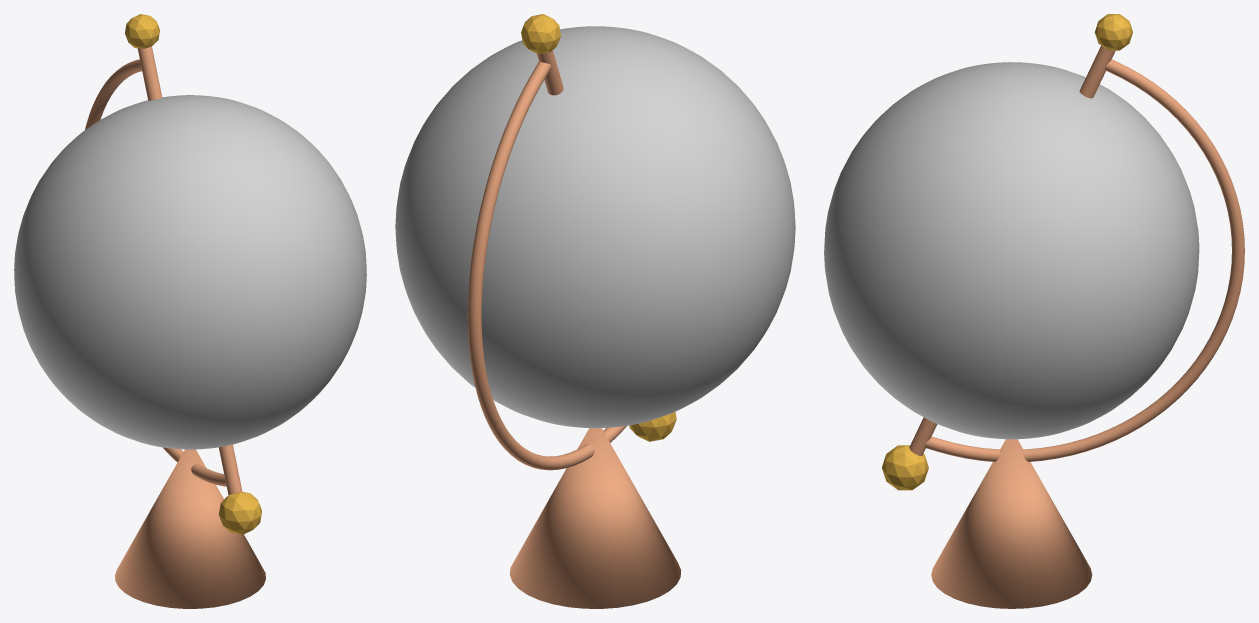
Rendered from earth.gltf.
3 renders of one model, left to right at view 1: azimuth 30°, elevation 25°; view 2: azimuth 150°, elevation 25°; view 3: azimuth 270°, elevation 25°, orthographic. The views are drawn at different scales.
Visible parts, largest first — view 1: 球, 円錐, トーラス, 円柱, ICO球, ICO球.001; view 2: 球, 円錐, トーラス, ICO球.001, ICO球, 円柱; view 3: 球, 円錐, トーラス, ICO球, 円柱, ICO球.001.
Boxes of the visible parts, <box> form: 球: <box>14,95,366,449</box>; 円錐: <box>115,449,265,608</box>; トーラス: <box>85,59,226,486</box>; 円柱: <box>137,46,242,495</box>; ICO球: <box>219,492,261,534</box>; ICO球.001: <box>125,14,159,48</box>; 球: <box>395,26,795,428</box>; 円錐: <box>510,428,680,608</box>; トーラス: <box>467,61,626,470</box>; ICO球.001: <box>521,14,560,54</box>; ICO球: <box>629,411,676,441</box>; 円柱: <box>537,50,563,95</box>; 球: <box>824,62,1199,439</box>; 円錐: <box>931,439,1092,608</box>; トーラス: <box>925,59,1244,461</box>; ICO球: <box>882,445,928,490</box>; 円柱: <box>909,45,1115,455</box>; ICO球.001: <box>1094,14,1132,50</box>.
Size of the model in its own units: 4.66 by 7.67 by 5.22.
